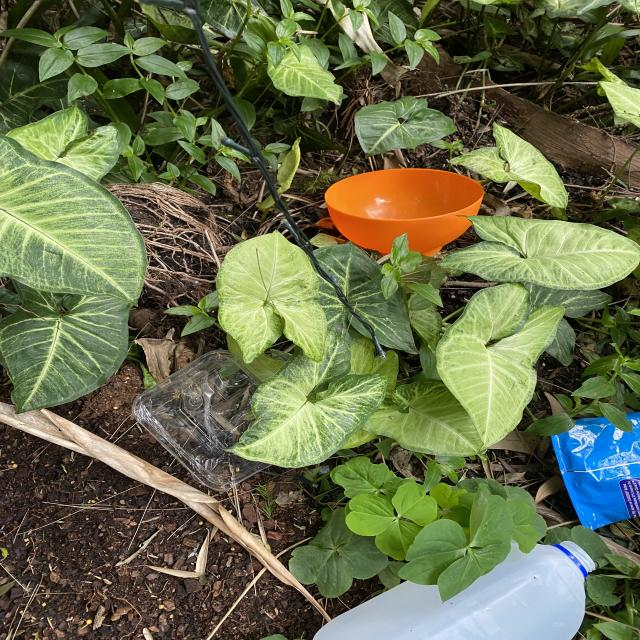bag: (313, 539, 595, 640), (552, 412, 640, 531)
bowl: (324, 168, 484, 256)
cup: (132, 349, 273, 492)
